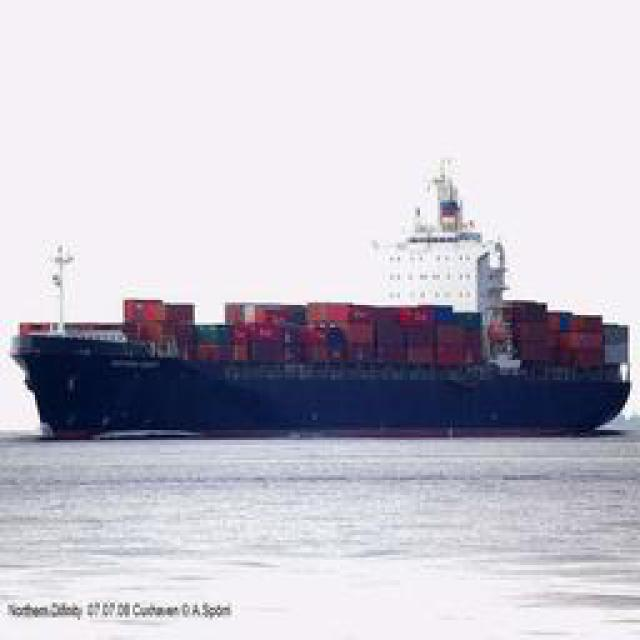Ship: (10, 151, 633, 436)
